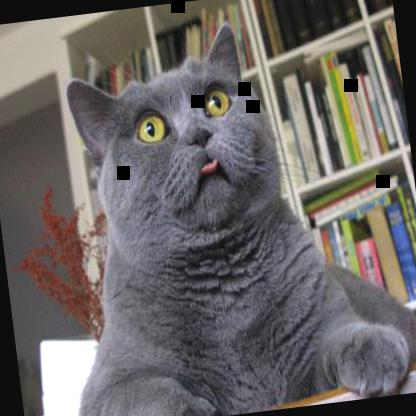cat: (33, 1, 415, 415)
